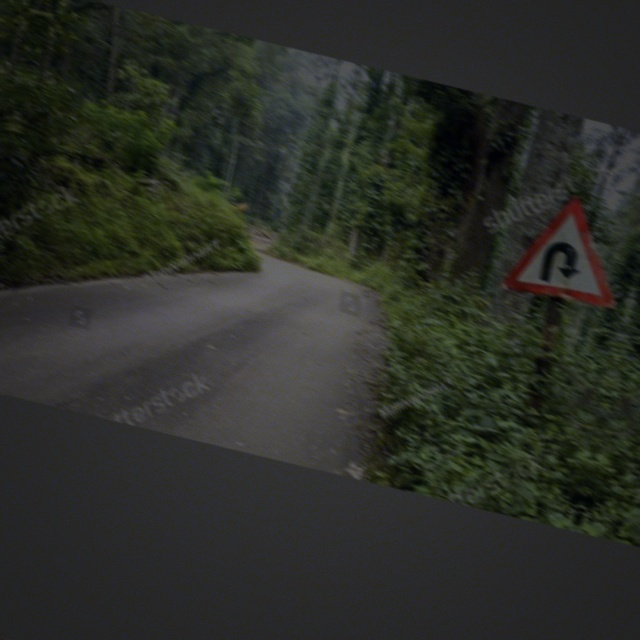Right_Hair_Pin_Bend: (503, 188, 632, 312)
